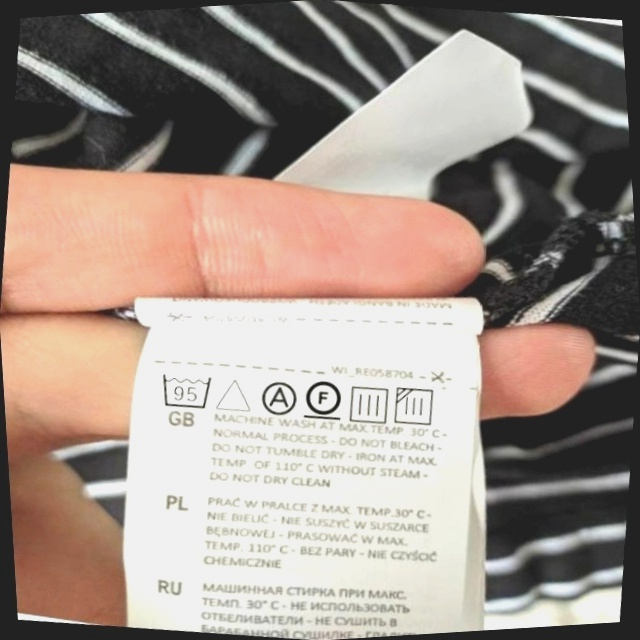95C: (156, 367, 217, 414)
bleach: (214, 371, 254, 417)
drip_dry: (345, 380, 394, 428)
drip_dry_in_shade: (391, 382, 442, 432)
dry_clean: (256, 377, 300, 419)
dry_clean_petrol_only: (301, 373, 347, 424)
